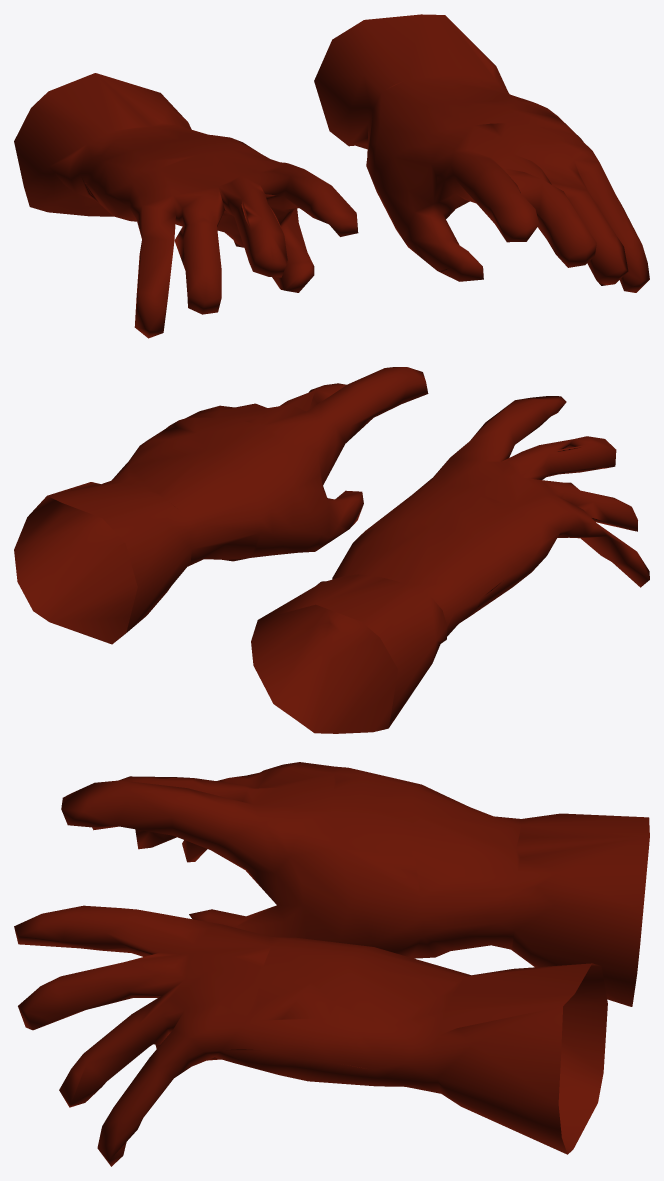
Rendered from weldingg_gloves.FBX.
3 renders of one model, top to bottom at view 1: azimuth 30°, elevation 25°; view 2: azimuth 150°, elevation 25°; view 3: azimuth 270°, elevation 25°, orthographic. The views are drawn at different scales.
Parts seen in each view (by area): view 1: Object001; view 2: Object001; view 3: Object001.
Boxes of the visible parts, bbox=[...] form: Object001: bbox=[14, 14, 649, 338]; Object001: bbox=[14, 367, 649, 733]; Object001: bbox=[14, 762, 649, 1166].
Size of the model in its own units: 11.91 by 4.25 by 11.13.
